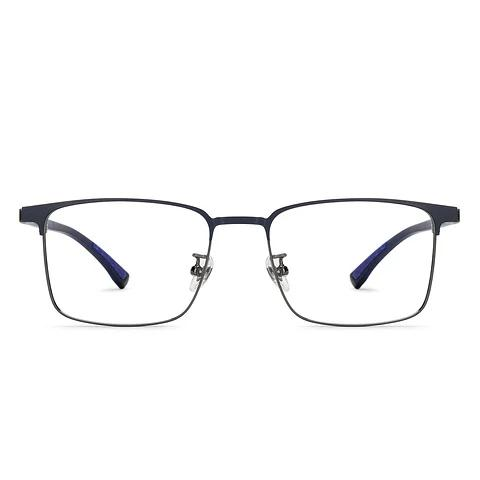spectacles: (19, 183, 477, 336)
